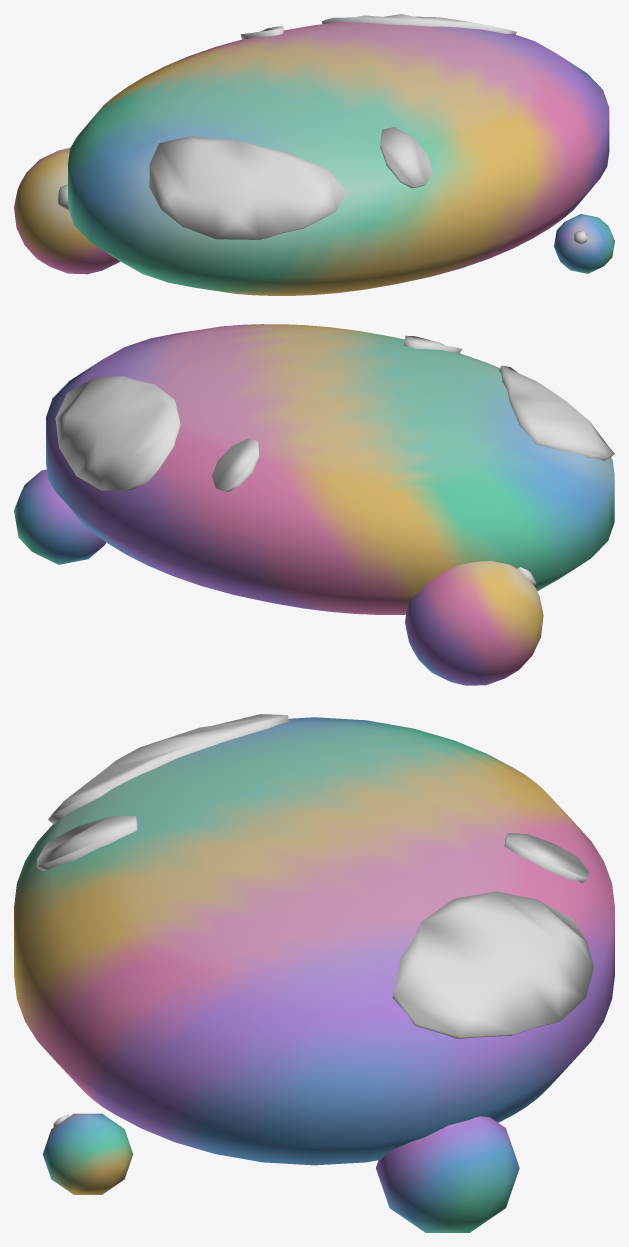
File: pet_mount_bubble.fbx
The picture shows the model from 3 angles, top to bottom: view 1: azimuth 30°, elevation 25°; view 2: azimuth 150°, elevation 25°; view 3: azimuth 270°, elevation 25°; orthographic projection. The views are drawn at different scales.
Visible parts, largest first — view 1: pet_mount_bubble; view 2: pet_mount_bubble; view 3: pet_mount_bubble.
Part boxes in pixels (<box>): pet_mount_bubble: <box>14,14,614,295</box>; pet_mount_bubble: <box>14,324,614,685</box>; pet_mount_bubble: <box>14,714,614,1232</box>.
Bounding box in the file's own units: 3.3 × 1.22 × 2.4.
